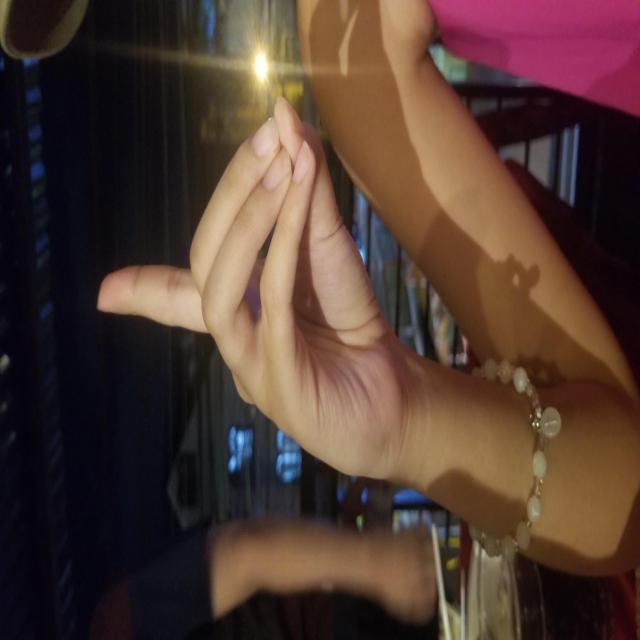D: (211, 97, 538, 390)
